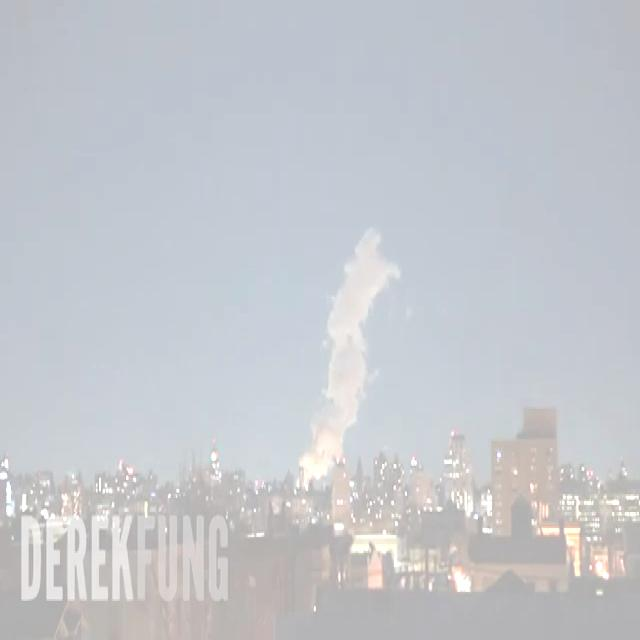smoke: (299, 228, 401, 489)
